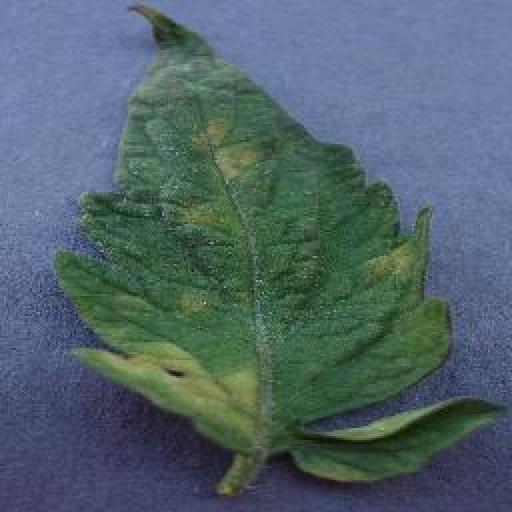disease_tomato: (58, 3, 509, 480)
